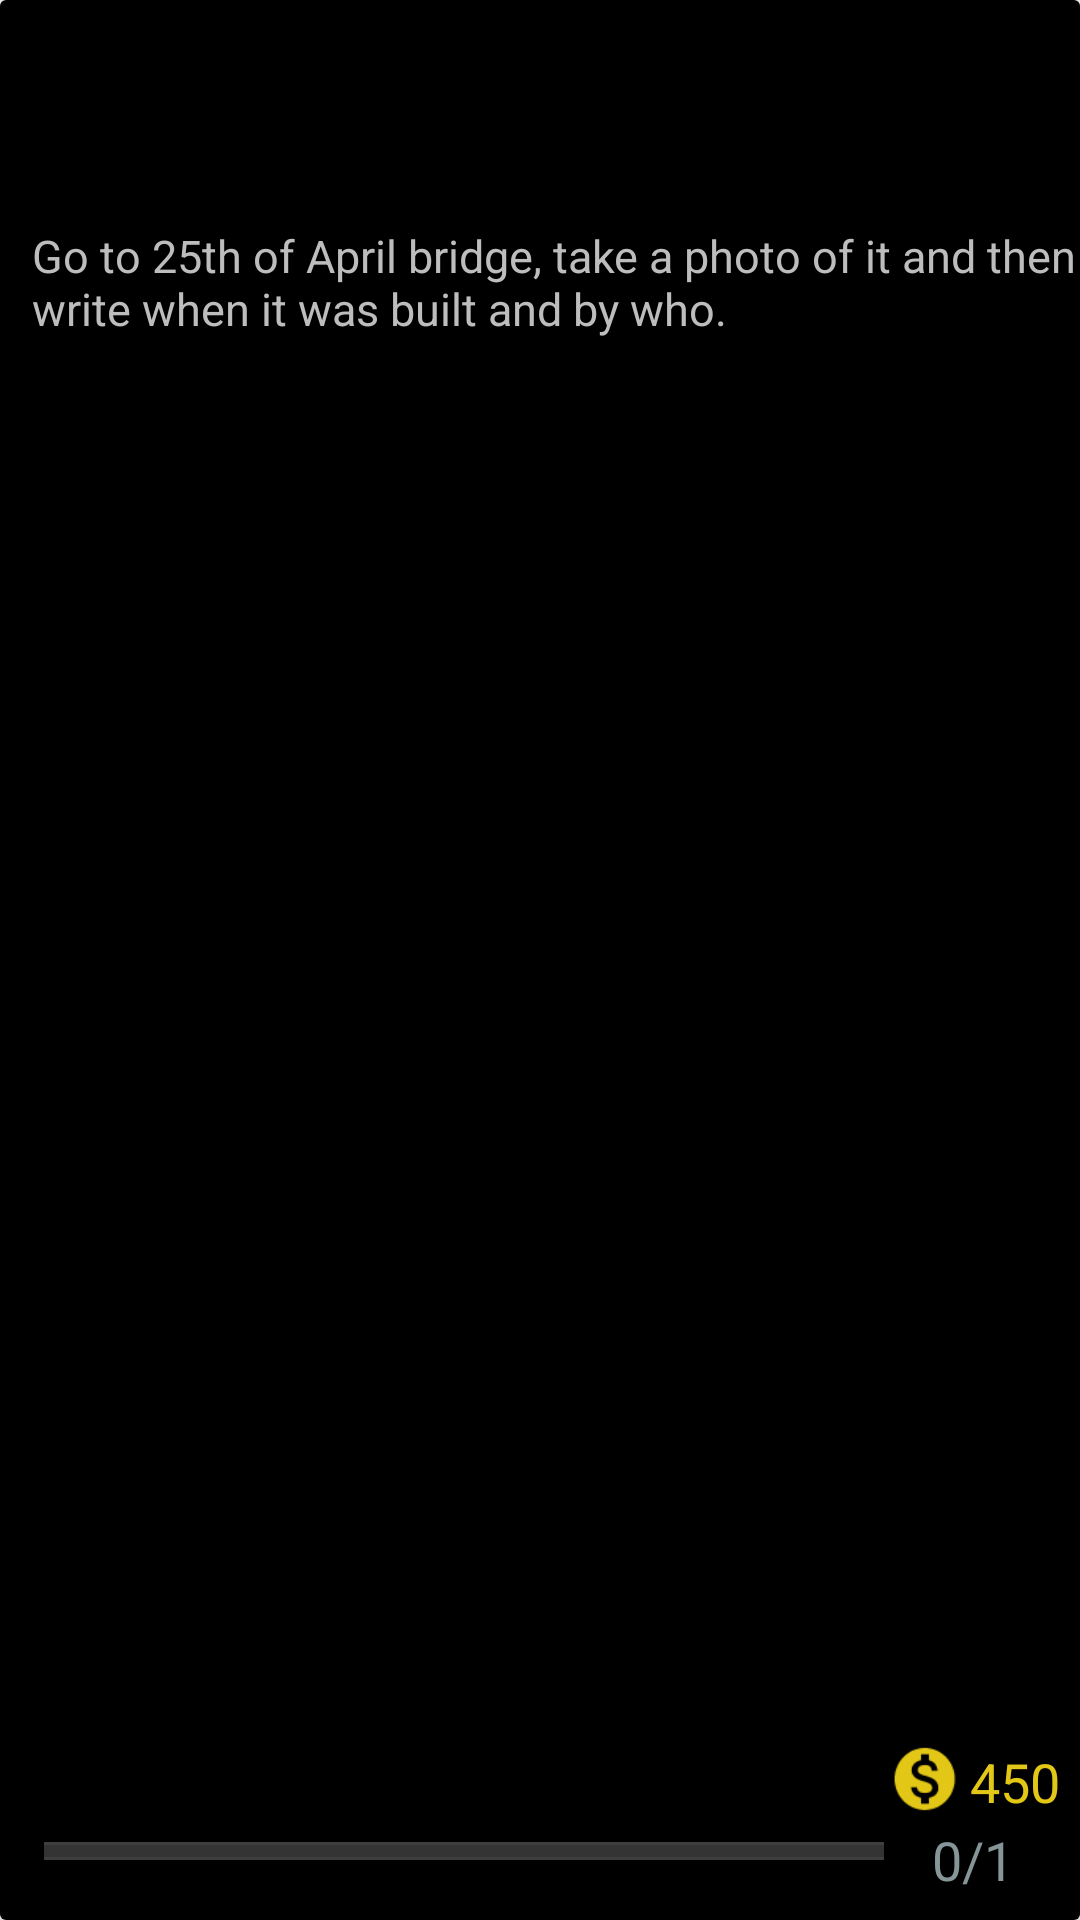

Icon bounding boxes for this 1080px x 1920px phone screenshot, format [x1,y1,x2,y2]:
monetization on: [894,1747,956,1811]
